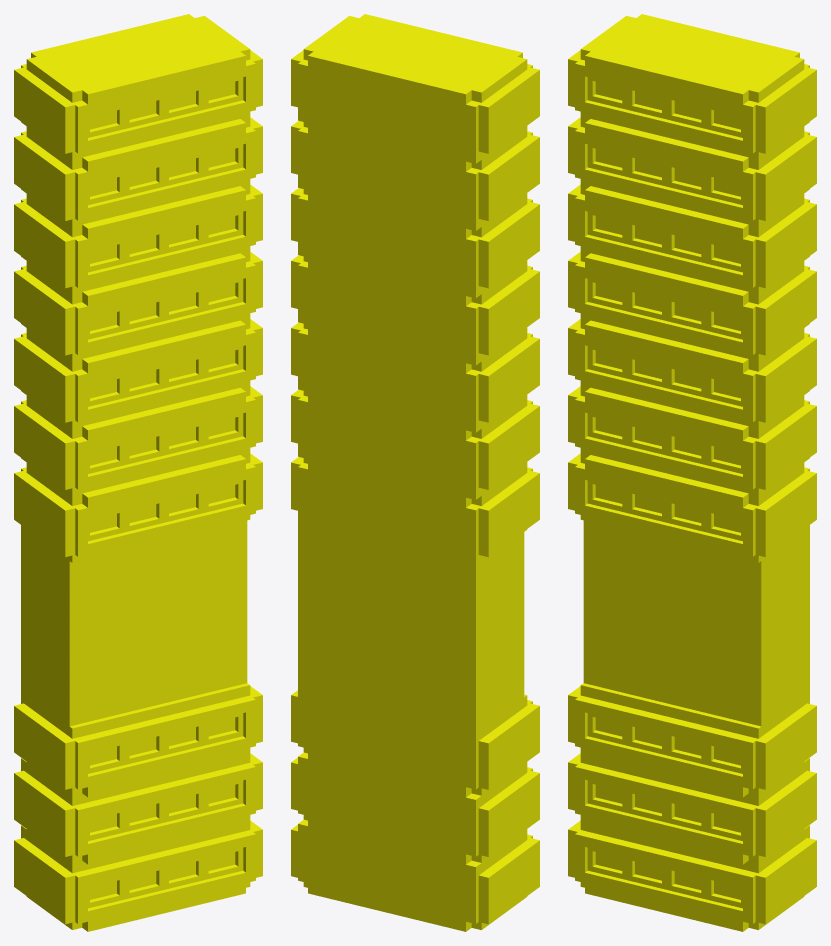
File: Building_3.glb
3 views of the same model, side by side, from view 1: azimuth 30°, elevation 25°; view 2: azimuth 150°, elevation 25°; view 3: azimuth 330°, elevation 25° (orthographic).
Visible parts, largest first — view 1: Building_3; view 2: Building_3; view 3: Building_3.
Part boxes in pixels (x1=…): Building_3: x1=14, y1=14, x2=262, y2=931; Building_3: x1=291, y1=14, x2=539, y2=931; Building_3: x1=568, y1=14, x2=816, y2=931.
Size of the model in its own units: 4 by 16.2 by 2.
